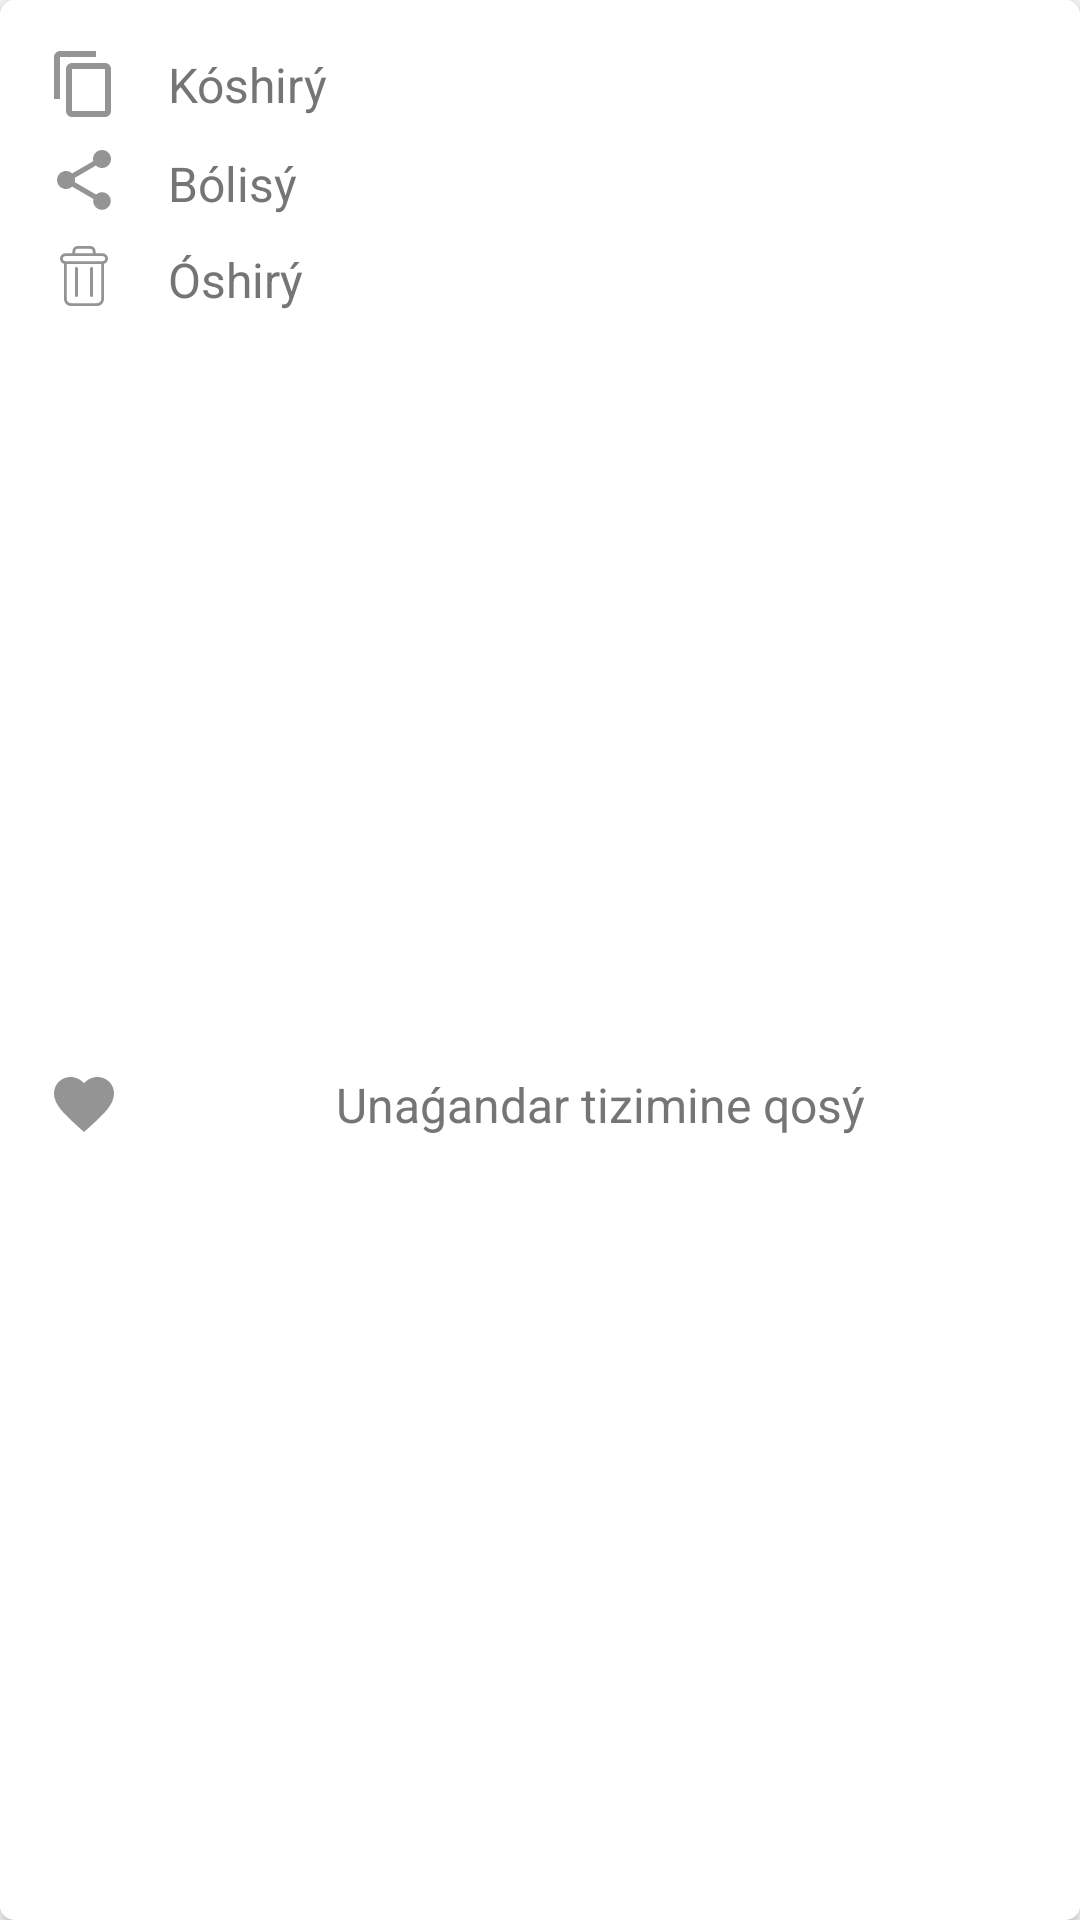

Icon bounding boxes for this 1080px x 1920px phone screenshot, format [left=x1, top=y1, right=x2, bottom=y2]:
favorite: [left=54, top=1077, right=114, bottom=1132]
send to trash: [left=60, top=246, right=108, bottom=306]
share: [left=57, top=150, right=111, bottom=210]
